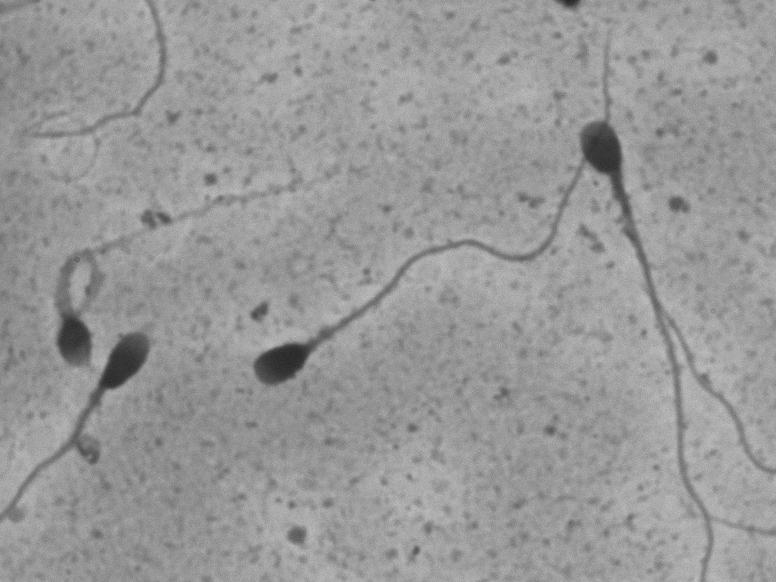Abnormal: (96, 321, 190, 517), (38, 227, 104, 380)
Normal: (241, 17, 640, 404)
